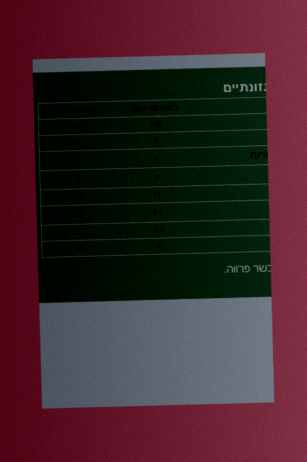carbs: (74, 193, 83, 201)
energy: (70, 122, 83, 131)
fat: (72, 138, 82, 147)
protein: (74, 228, 85, 237)
